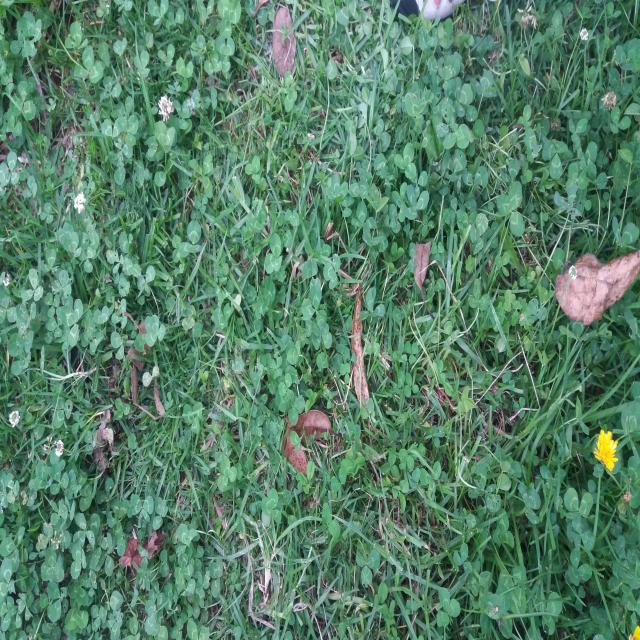Four Leaf Clover: (311, 310, 332, 350)
